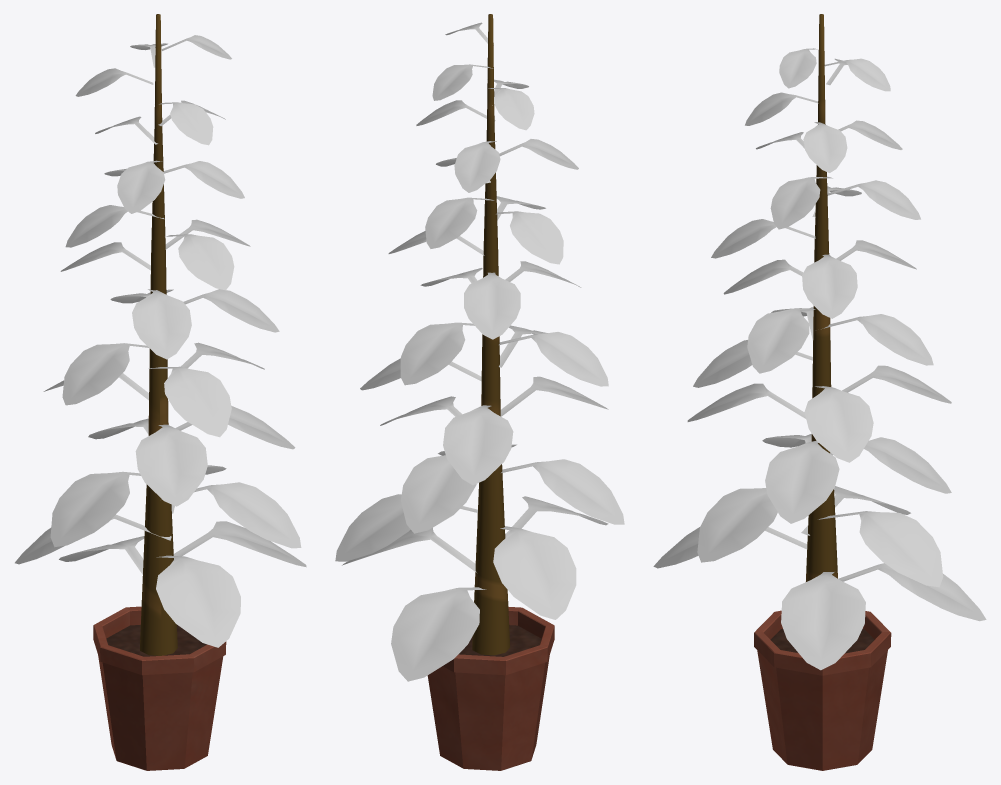
Rendered from TallPlant 1.fbx.
The picture shows the model from 3 angles, left to right: view 1: azimuth 30°, elevation 25°; view 2: azimuth 150°, elevation 25°; view 3: azimuth 270°, elevation 25°; orthographic projection.
Visible parts, largest first — view 1: Plane; view 2: Plane; view 3: Plane.
Part boxes in pixels (x1,y1,x2,y2): Plane: (15,14,306,770); Plane: (335,14,624,770); Plane: (653,14,986,770).
Size of the model in its own units: 91.63 by 242 by 99.58.
